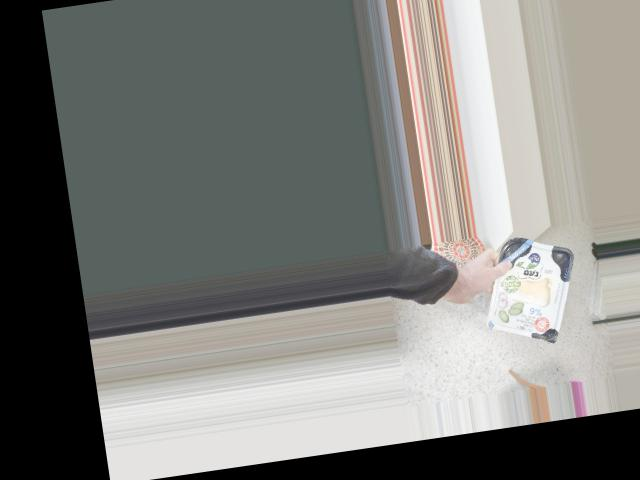cheese: (487, 242, 572, 339)
